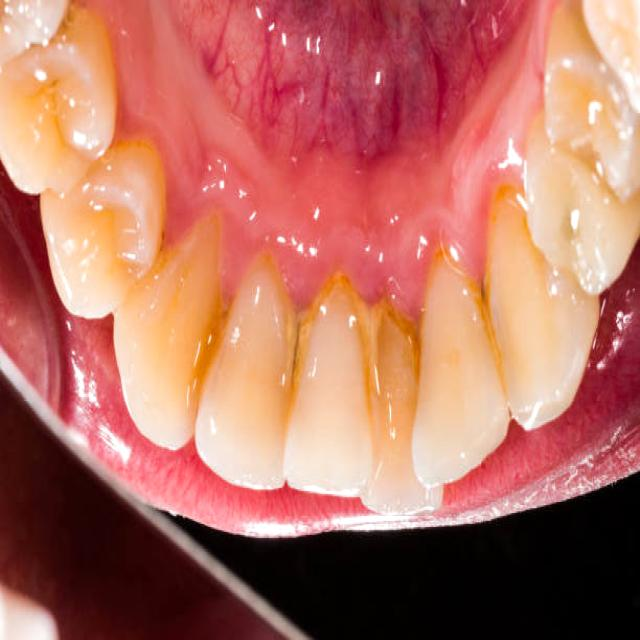calculus: (288, 290, 321, 419), (196, 296, 226, 392), (350, 290, 372, 419), (475, 284, 501, 383), (278, 270, 295, 416), (393, 301, 415, 402), (372, 301, 385, 408)
